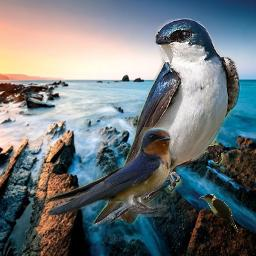Cuckoo: (199, 194, 238, 232)
Swallow: (93, 16, 241, 227), (22, 127, 178, 217)
